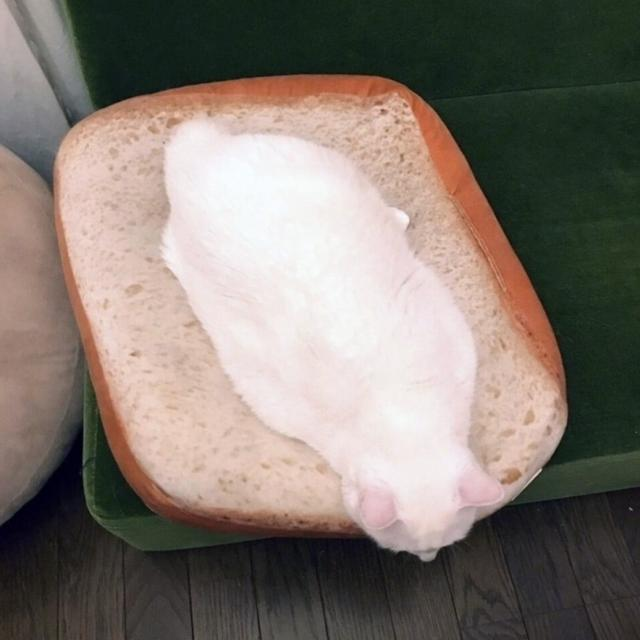cat: (162, 116, 493, 573)
